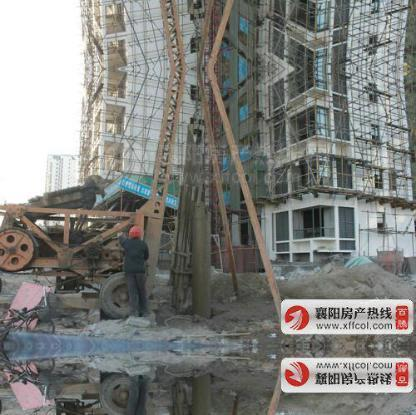helmet: (127, 224, 145, 240)
